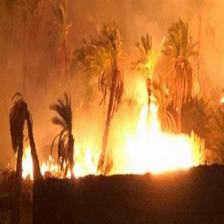fire: (17, 55, 207, 178)
